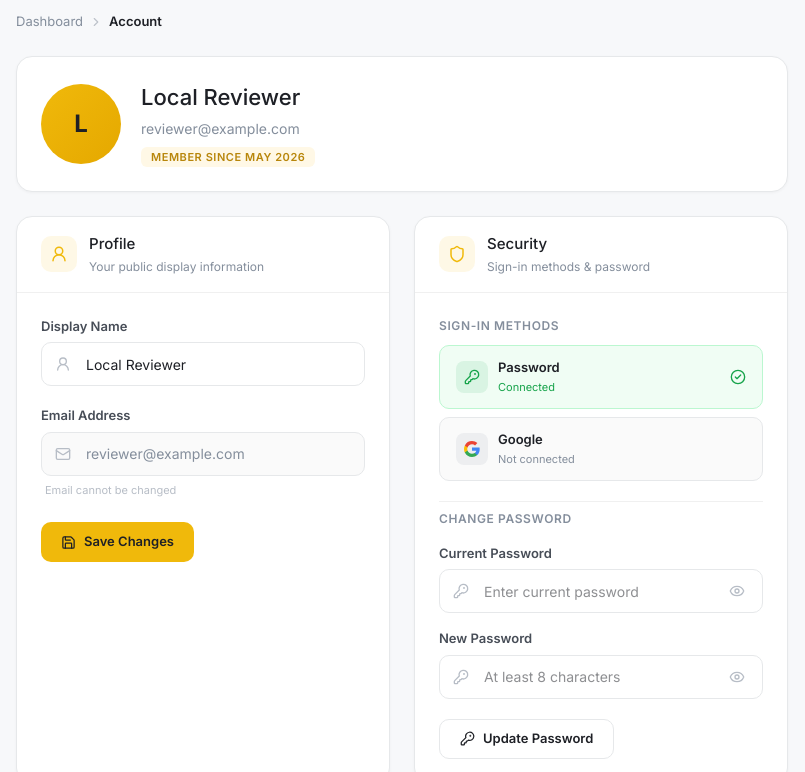
AccountPage › saves display name and updates the authenticated session
Step 1. Replace the text in the field labelled "Display Name" with "Updated Reviewer" → (203, 364), box 41,342 -> 365,386
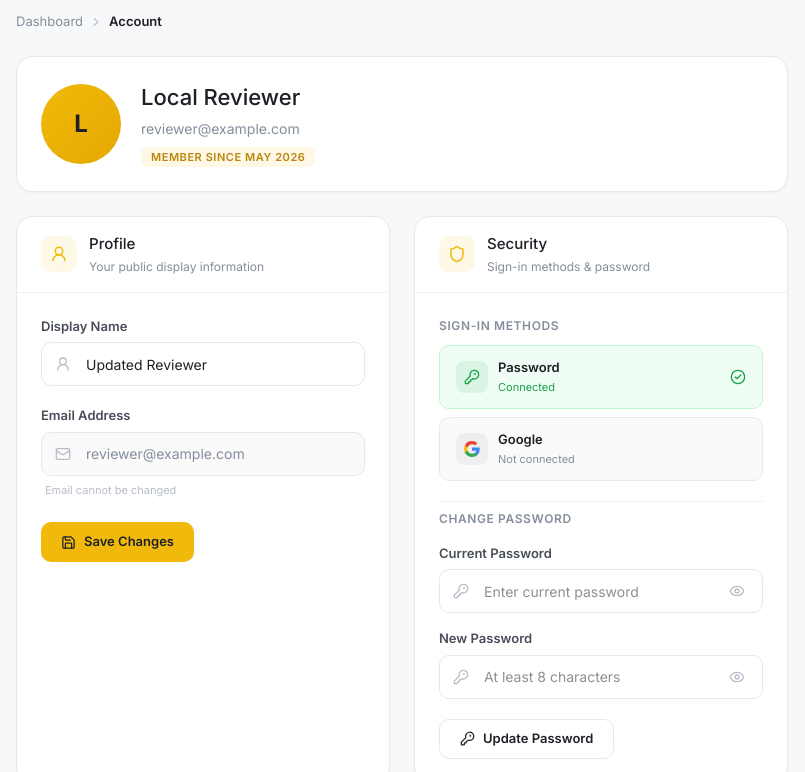
Step 2. Click the button "Save Changes" → (118, 542), box 41,522 -> 194,562
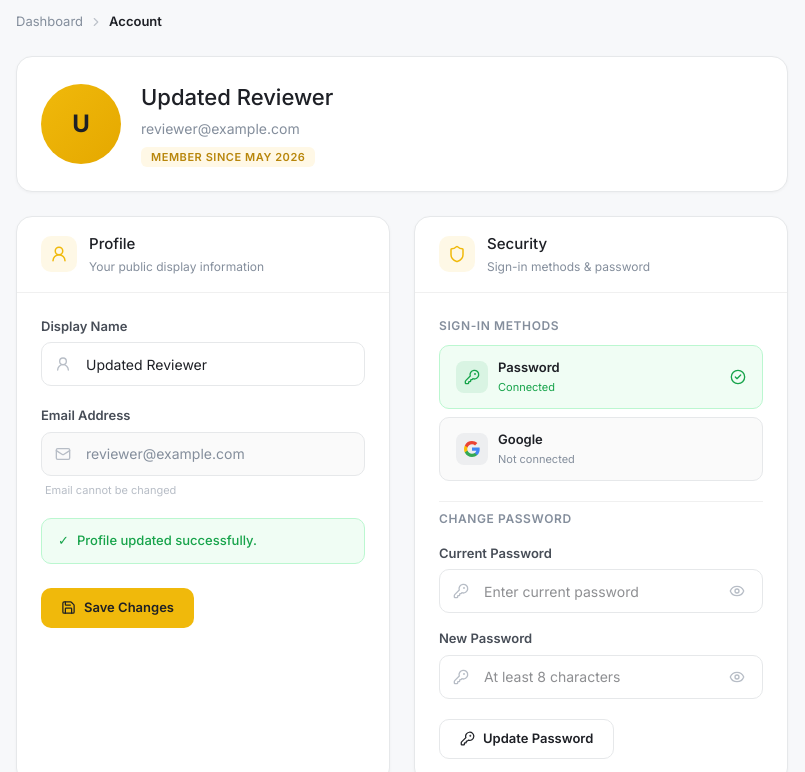
Now the text "✓ Profile updated successfully." is shown, box 41,518 -> 365,564
